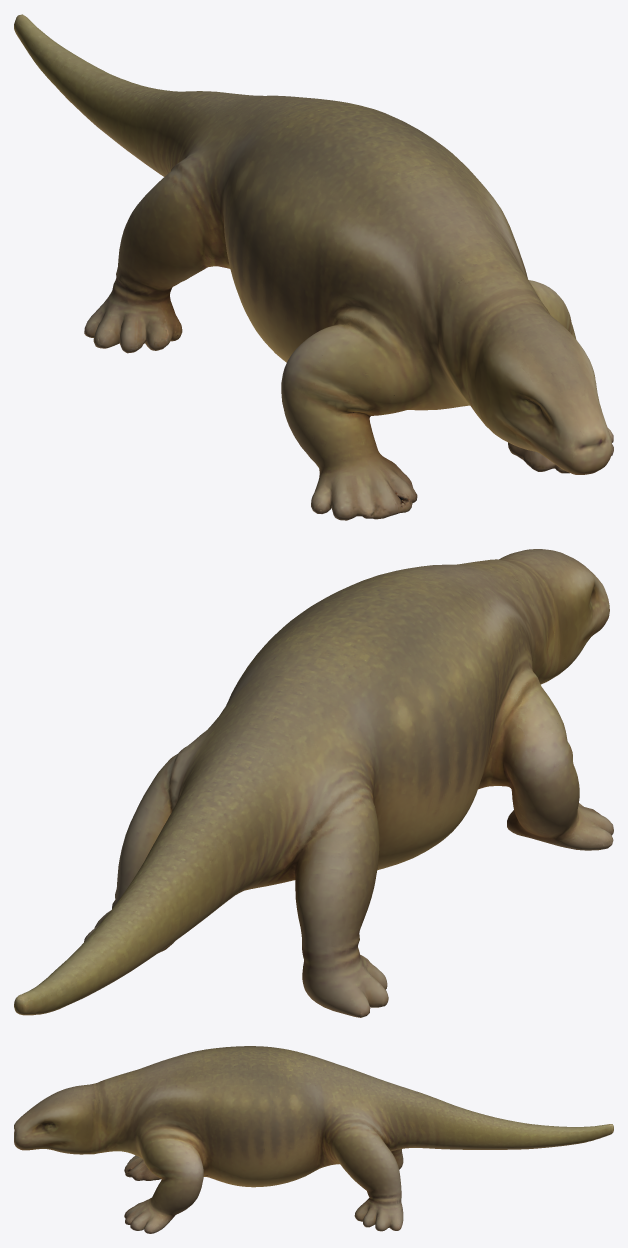
3 renders of one model, top to bottom at view 1: azimuth 30°, elevation 25°; view 2: azimuth 150°, elevation 25°; view 3: azimuth 270°, elevation 25°, orthographic. The views are drawn at different scales.
Parts seen in each view (by area): view 1: world; view 2: world; view 3: world.
Boxes of the visible parts, left/top/right/bottom form: world: left=14, top=14, right=613, bottom=520; world: left=14, top=549, right=613, bottom=1017; world: left=14, top=1046, right=613, bottom=1233.
Bounding box in the file's own units: 0.3607 × 0.3227 × 1.2.
1 material, 1 textured.
